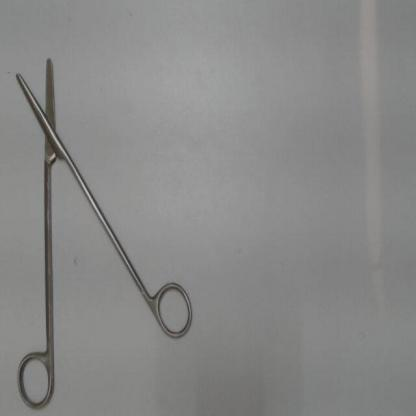9 Metzenbaum Scissors: (10, 51, 198, 413)
